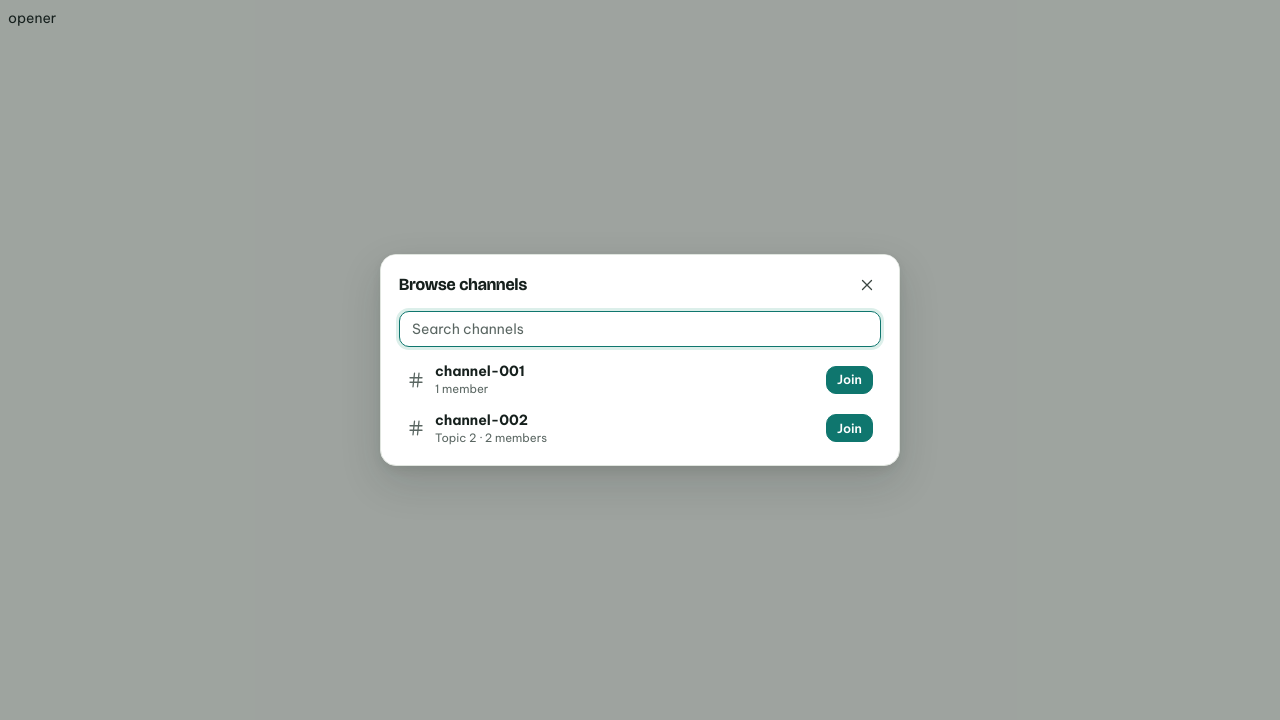
Test: BrowseChannelsDialog (TOKI-034 R4 to R15) › 409 channel_archived returns to the first page, asks it again, and the row shows its label with no button
Step 1. Click the button "Join" in the row of "channel-001" → (849, 380), box [826,366,873,394]
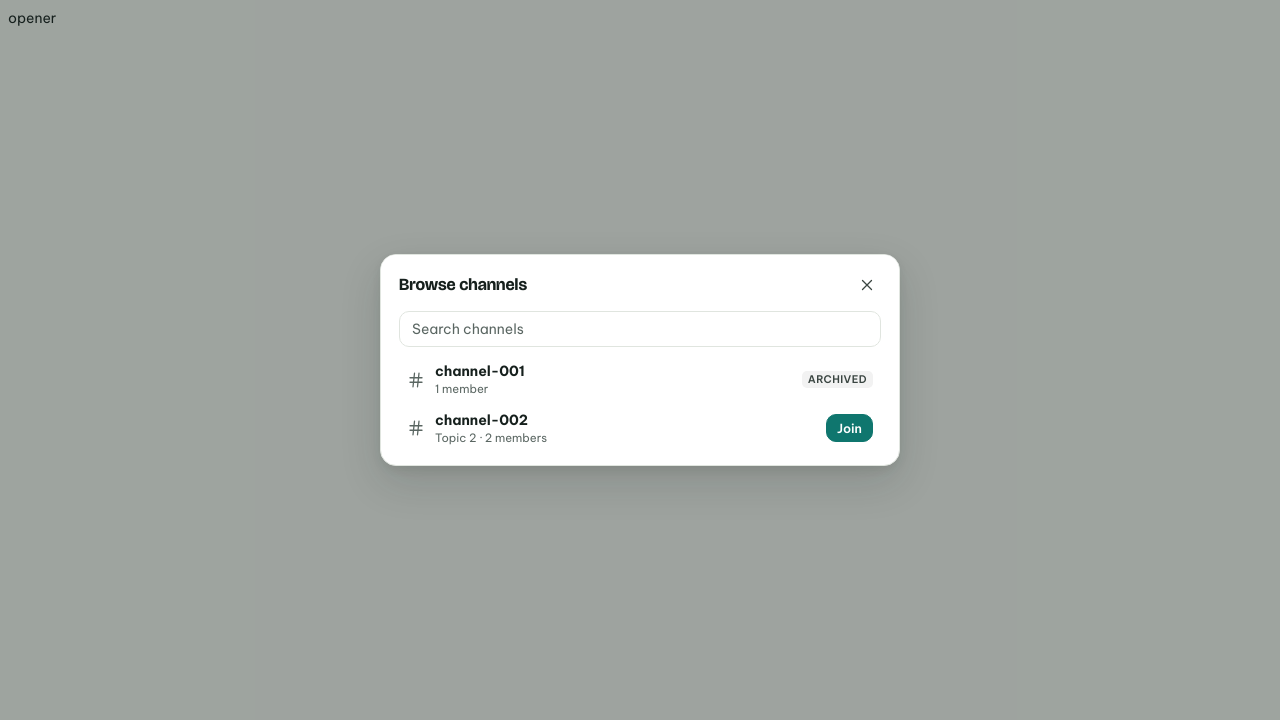
Check: the number of buttons "Join" is 1, box [826,414,873,442]
Check: the text "Archived" is shown, box [802,371,873,388]
